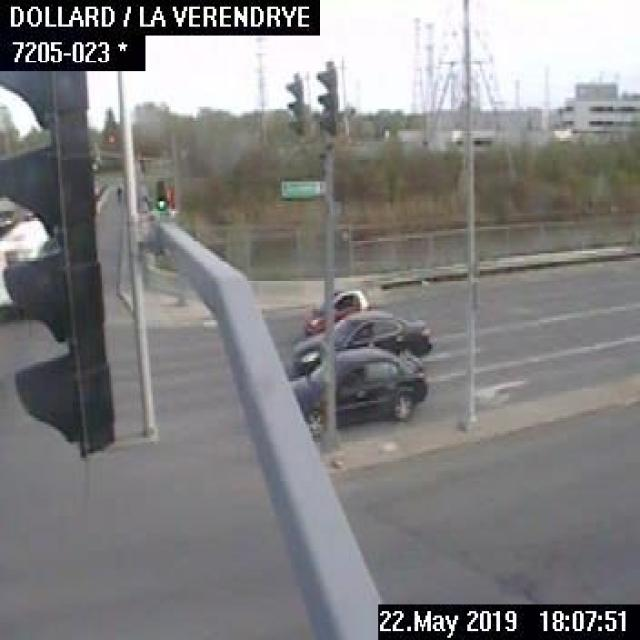bus: (0, 213, 49, 311)
pedestrian: (113, 180, 122, 207)
vehicle: (290, 345, 426, 429), (289, 309, 432, 359), (303, 286, 384, 327)
